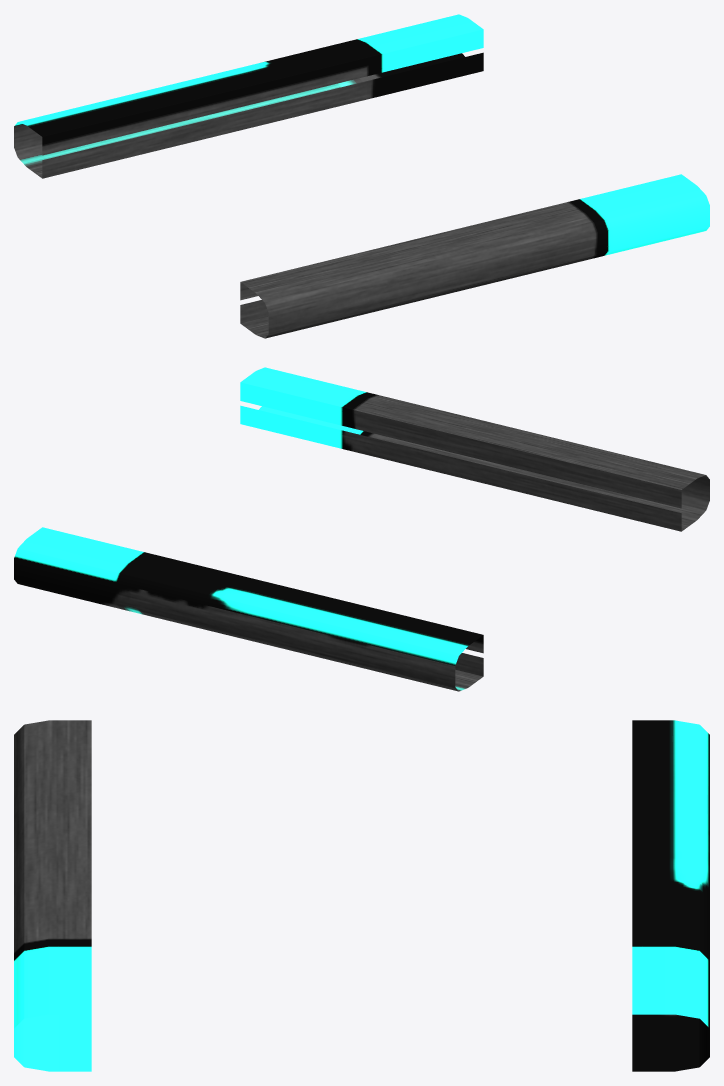
Rendered from Platform_003_Center_Ends.fbx.
The picture shows the model from 3 angles, top to bottom: view 1: azimuth 30°, elevation 25°; view 2: azimuth 150°, elevation 25°; view 3: azimuth 270°, elevation 25°; orthographic projection. The views are drawn at different scales.
Visible parts, largest first — view 1: Platform_003_Center_Ends; view 2: Platform_003_Center_Ends; view 3: Platform_003_Center_Ends.
Part boxes in pixels (x1,y1,x2,y2): Platform_003_Center_Ends: [14, 14, 709, 338]; Platform_003_Center_Ends: [14, 367, 709, 691]; Platform_003_Center_Ends: [14, 720, 709, 1071].
Size of the model in its own units: 100 by 9.03 by 100.
